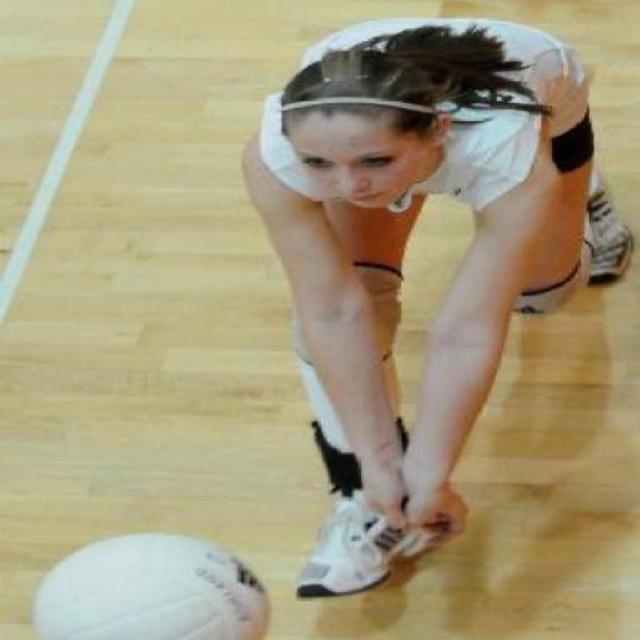volleyball: (28, 534, 270, 638)
